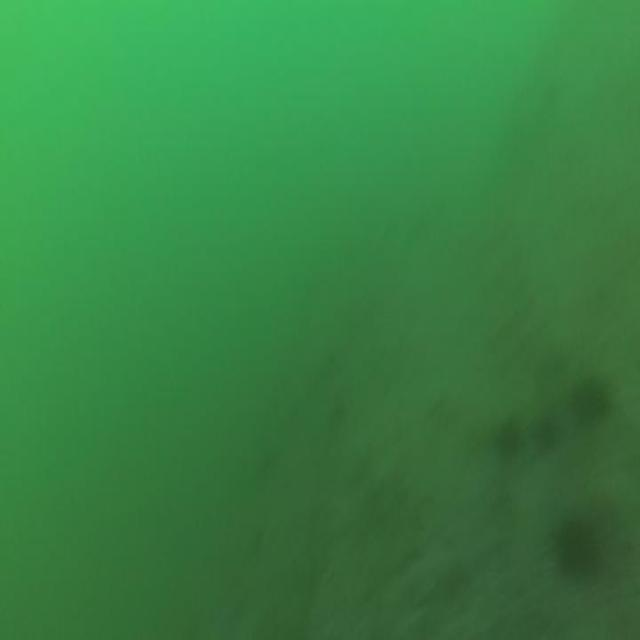echinus: (555, 509, 597, 583), (570, 368, 612, 428), (495, 412, 523, 463), (533, 411, 560, 457)
